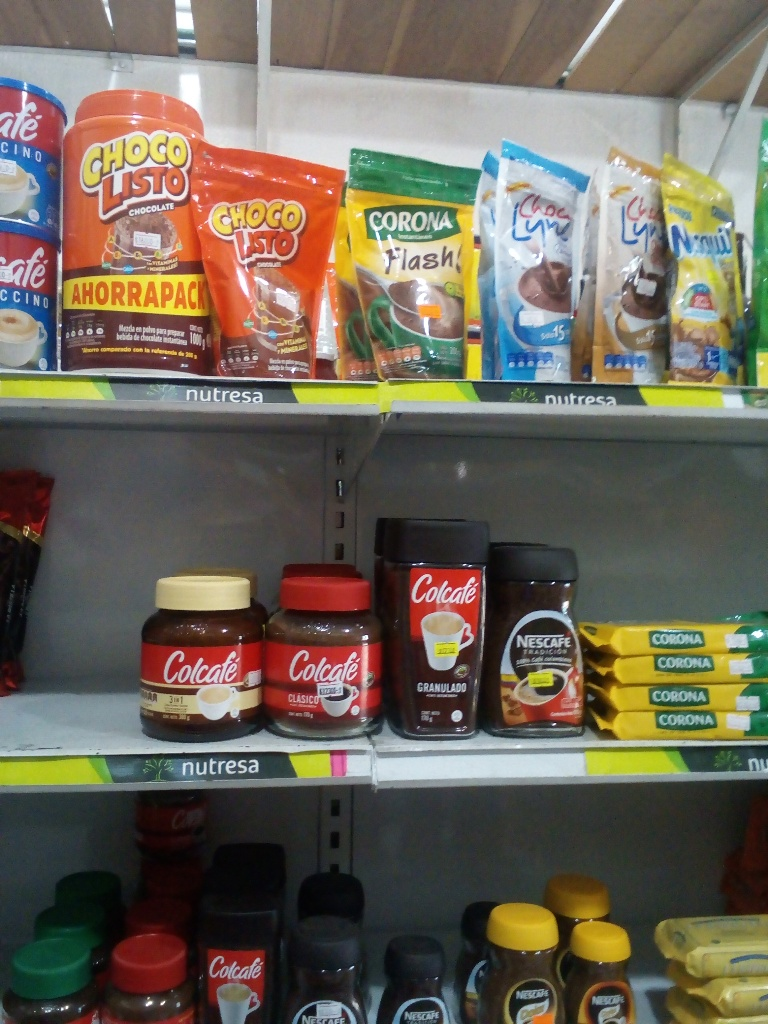COL0170103TRR00100: (66, 78, 214, 376)
